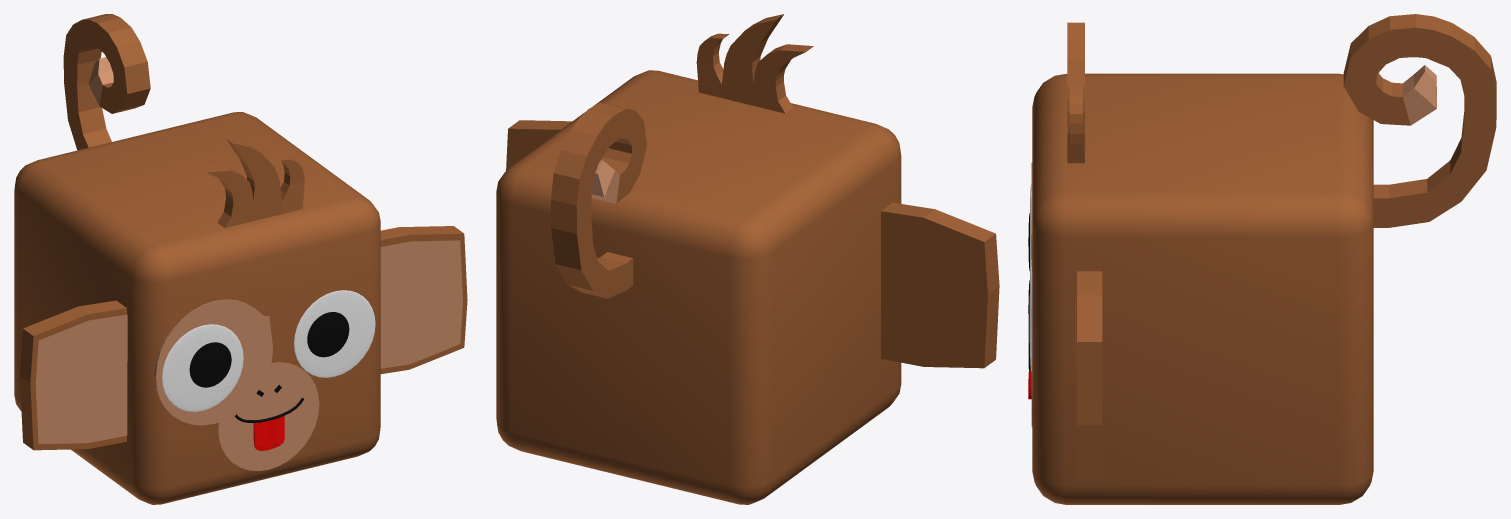
The model's file is Monkey.fbx.
3 renders of one model, left to right at view 1: azimuth 30°, elevation 25°; view 2: azimuth 150°, elevation 25°; view 3: azimuth 270°, elevation 25°, orthographic. The views are drawn at different scales.
Parts seen in each view (by area): view 1: Monkey; view 2: Monkey; view 3: Monkey.
Boxes of the visible parts, box(x1,y1,x2,y2) form: Monkey: box(14, 14, 467, 504); Monkey: box(496, 14, 999, 504); Monkey: box(1028, 14, 1496, 504).
Bounding box in the file's own units: 356 × 274 × 274.
